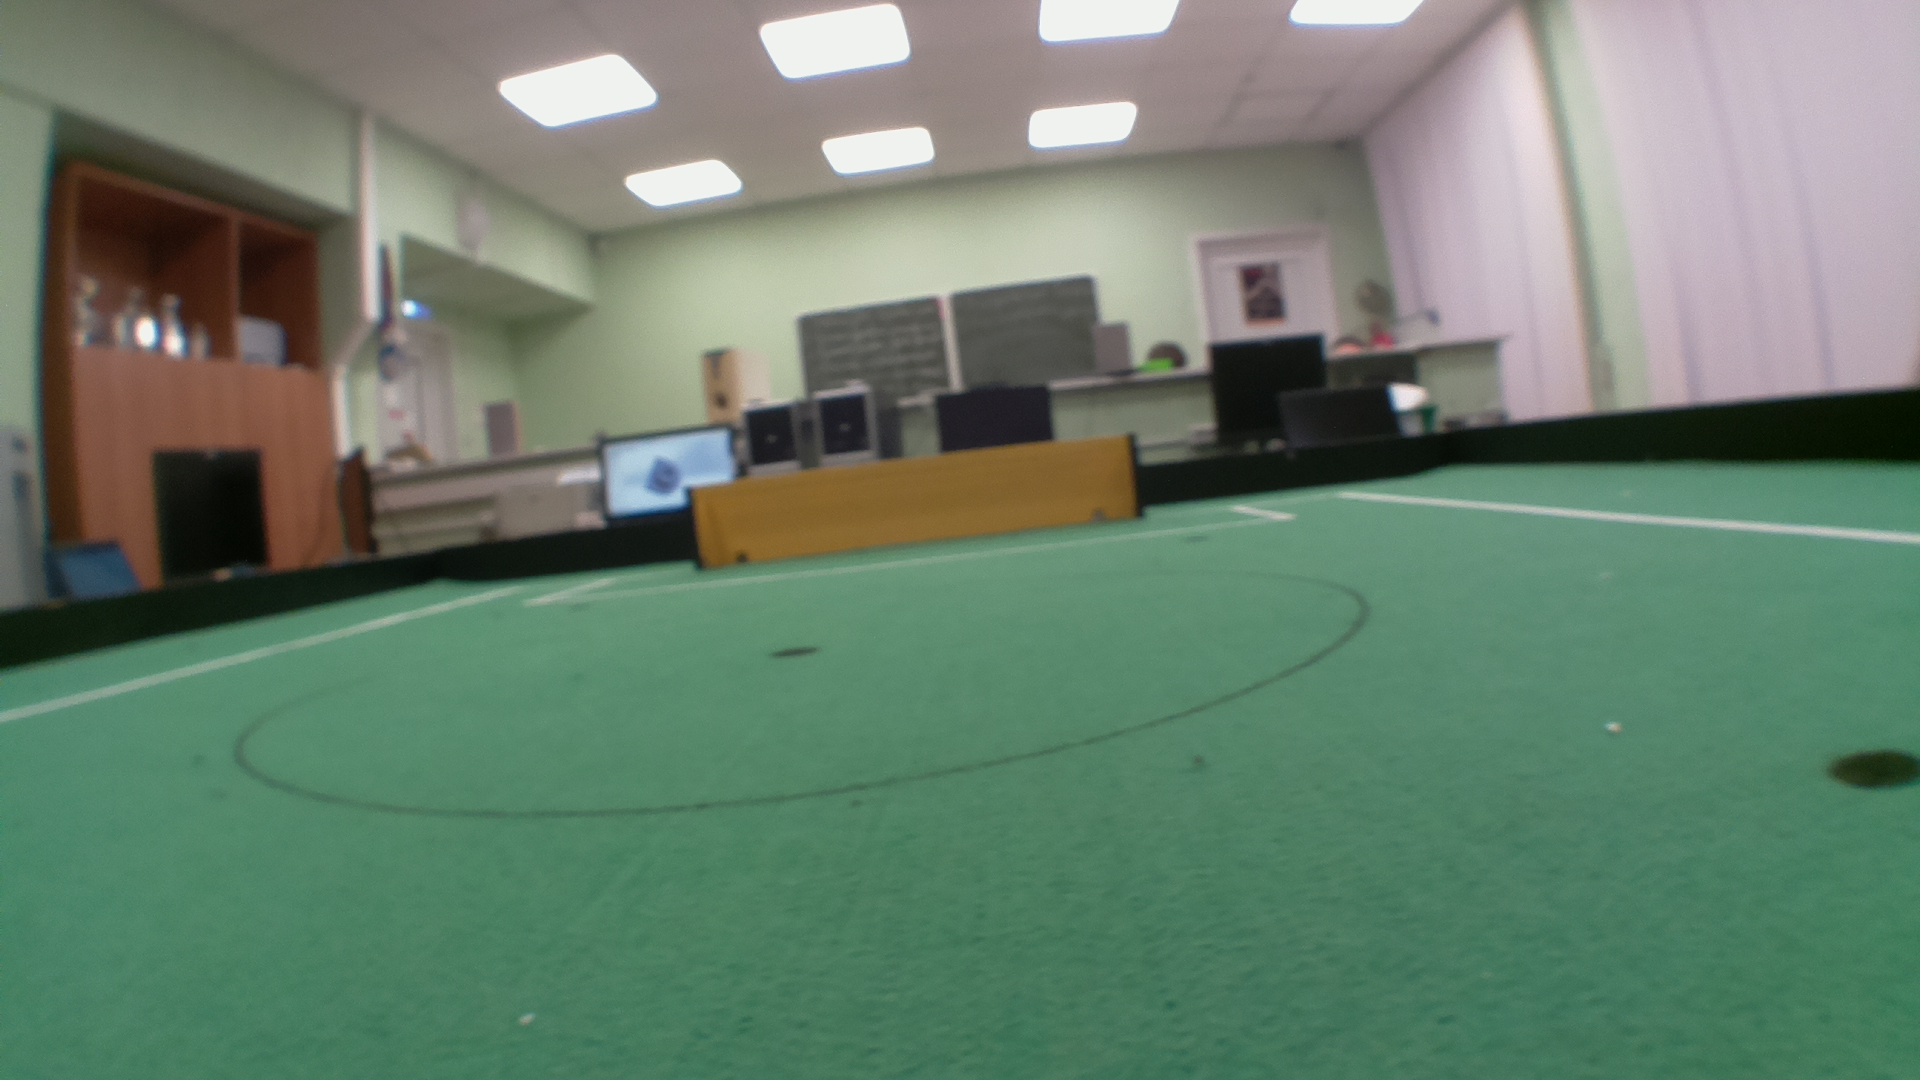YellowGoal: (691, 435, 1138, 567)
